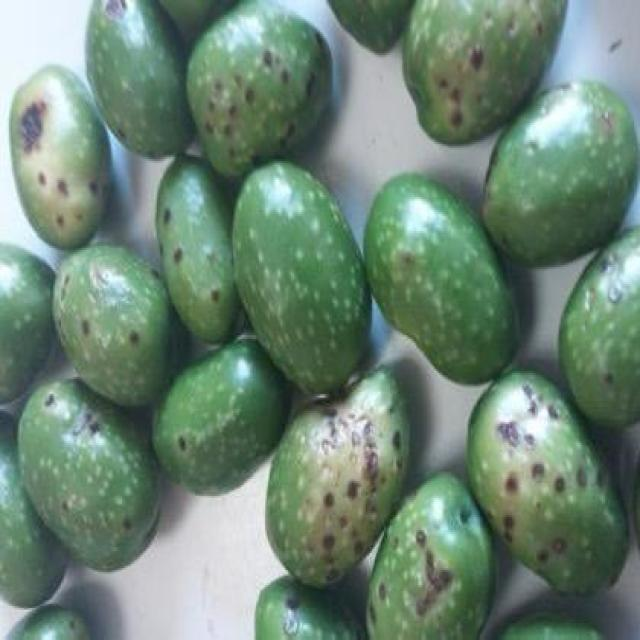Anthracnose: (468, 369, 628, 591), (267, 367, 410, 585), (188, 0, 330, 178), (18, 378, 157, 558), (402, 0, 566, 142), (368, 472, 494, 638), (152, 339, 288, 492), (54, 244, 174, 405), (10, 64, 110, 248), (559, 233, 637, 424), (155, 155, 227, 341)
